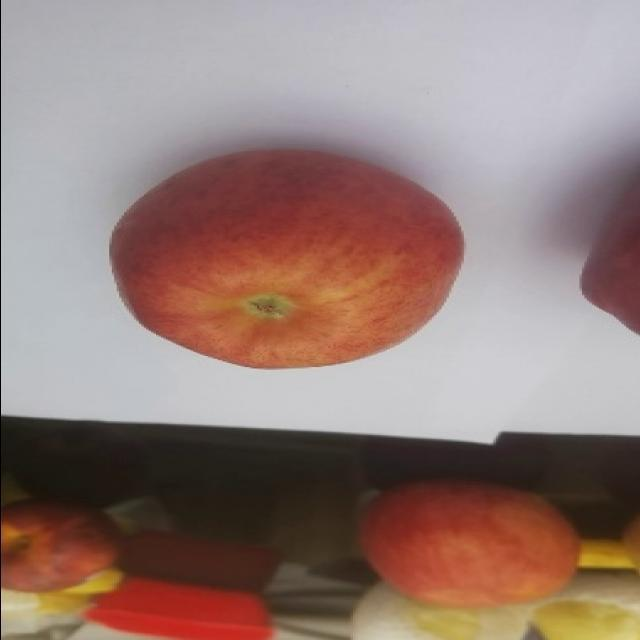Apple: (105, 143, 468, 373), (356, 478, 584, 610), (0, 495, 130, 597), (568, 173, 640, 338)
